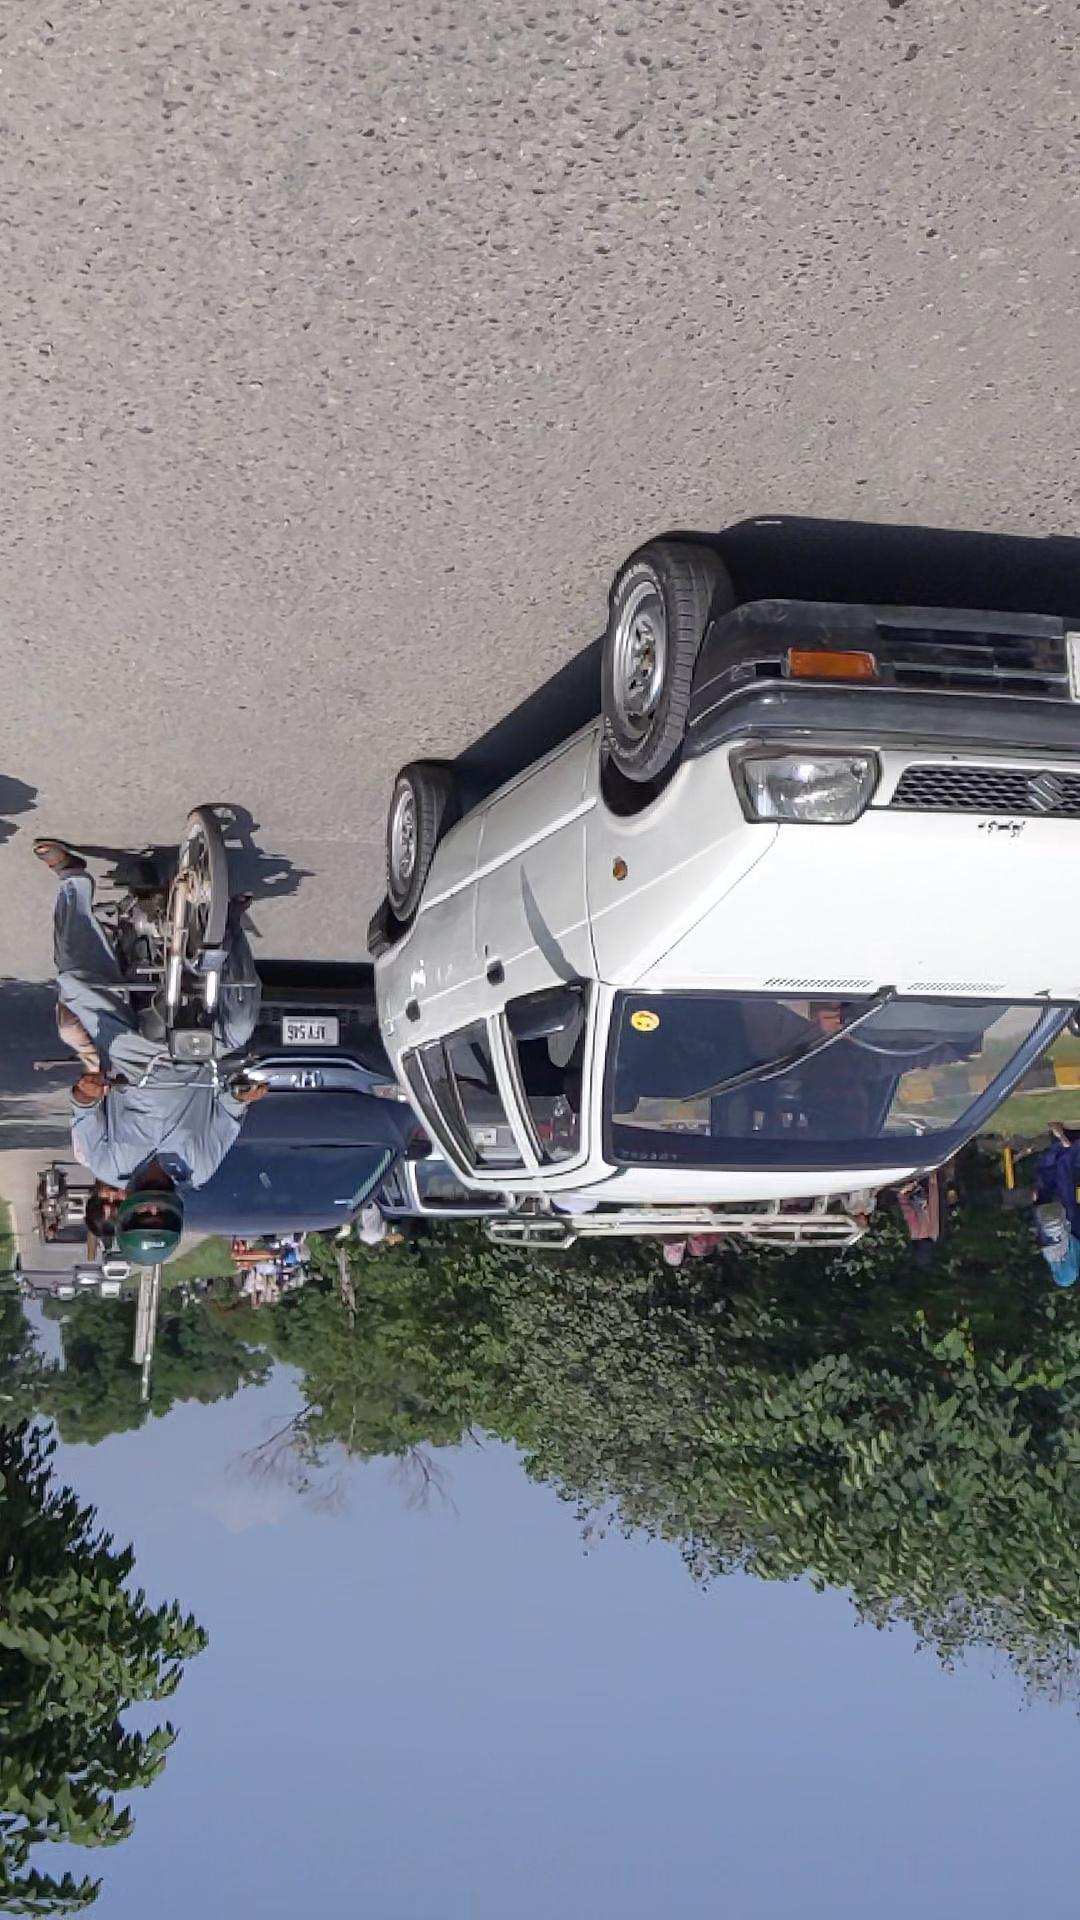windshield: (0, 750, 485, 935)
